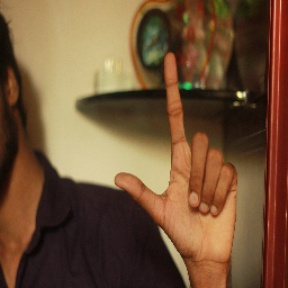L: (116, 50, 241, 252)
